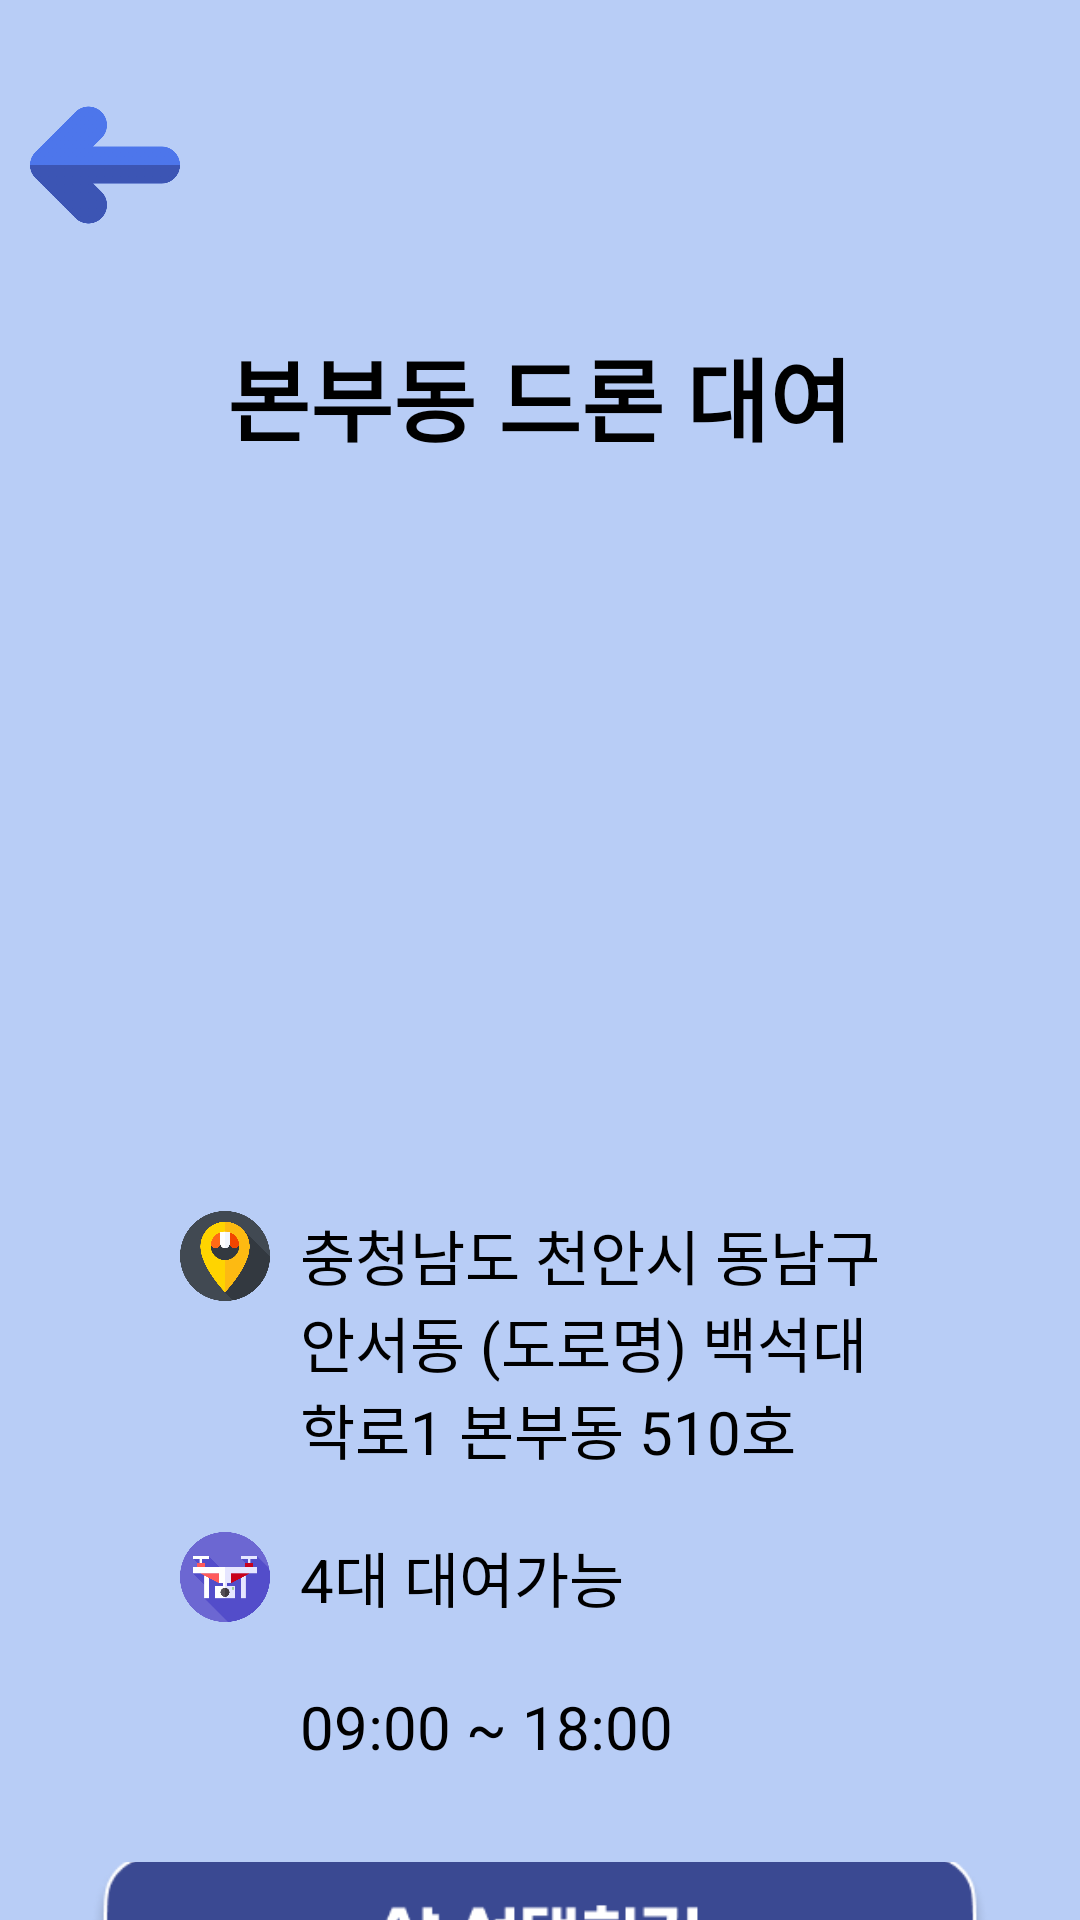

Icons on this 1080 x 1920 Android screen, each with the point to tap as (x,y):
back: (105,165)
drone: (225,1577)
location: (225,1256)
